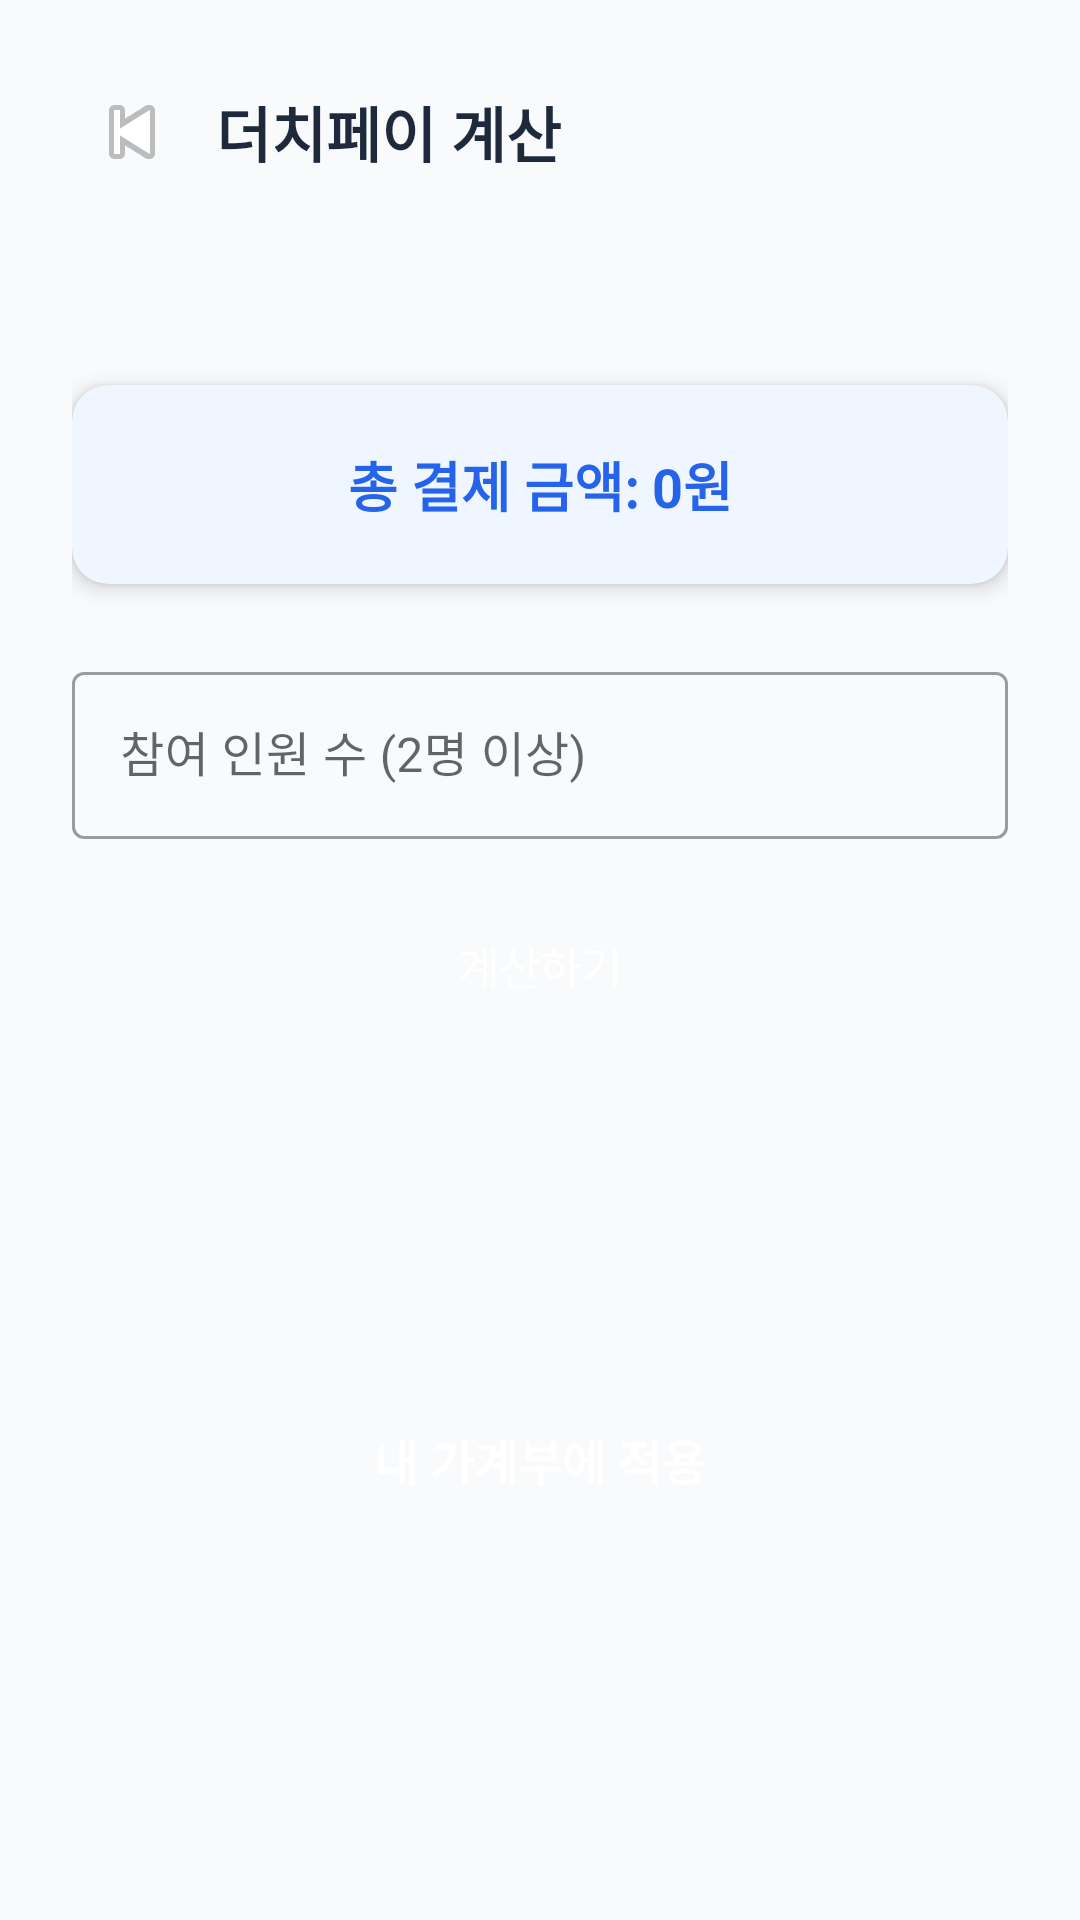

Where icons sit on this 1080×1920 app screen, as [x1, y1, x2, y2]:
previous: [109, 105, 155, 159]
